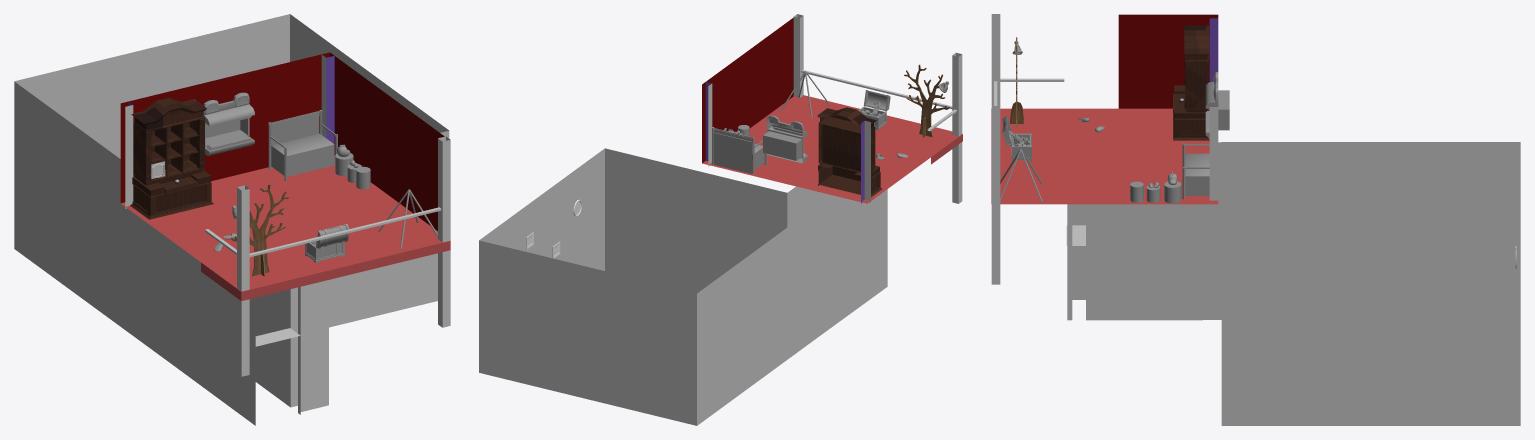
File: inside_2stage.FBX
3 renders of one model, left to right at view 1: azimuth 30°, elevation 25°; view 2: azimuth 150°, elevation 25°; view 3: azimuth 270°, elevation 25°, orthographic. The views are drawn at different scales.
Visible parts, largest first — view 1: jihasil_L_wall_movingX, 2f_floor, Object163, jihasil_F_wall, jihasil_gyedan_L_wall, jihasil_gyedan_R_wall, 2f_jangsickjang, 2f_gidung, 2f_object, jihasil_back_wall_moving, jihasil_R_wall, 2f_otgerE (+2 smaller); view 2: jihasil_F_wall, jihasil_back_wall_moving, jihasil_L_wall_movingX, 2f_floor, jihasil_R_wall, jihasil_gyedan_L_wall, Object163, 2f_gidung, 2f_jangsickjang, 2f_object, 2f_otgerE, jihasil_gyedan_R_wall (+1 smaller); view 3: jihasil_R_wall, jihasil_L_wall_movingX, jihasil_gyedan_R_wall, 2f_floor, Object163, 2f_gidung, 2f_object, 2f_jangsickjang, jihasil_gyedan_L_wall, 2f_hookblock.
Part boxes in pixels (x1,y1,x2,y2): jihasil_L_wall_movingX: (14,81,173,365); 2f_floor: (121,156,450,300); Object163: (120,52,444,230); jihasil_F_wall: (14,14,289,158); jihasil_gyedan_L_wall: (173,242,255,425); jihasil_gyedan_R_wall: (255,280,328,414); 2f_jangsickjang: (130,98,213,219); 2f_gidung: (125,54,450,376); 2f_object: (203,92,437,248); jihasil_back_wall_moving: (329,131,449,327); jihasil_R_wall: (290,14,448,132); 2f_otgerE: (230,184,288,276); jihasil_F_wall: (479,240,696,425); jihasil_back_wall_moving: (605,148,787,293); jihasil_L_wall_movingX: (697,201,822,425); 2f_floor: (702,95,962,203); jihasil_R_wall: (479,148,604,270); jihasil_gyedan_L_wall: (823,189,887,333); Object163: (702,17,793,162); 2f_gidung: (705,14,962,203); 2f_jangsickjang: (817,107,881,197); 2f_object: (712,71,948,174); 2f_otgerE: (904,64,949,137); jihasil_gyedan_R_wall: (787,186,831,226); jihasil_R_wall: (1221,268,1520,425); jihasil_L_wall_movingX: (1221,142,1520,268); jihasil_gyedan_R_wall: (1067,162,1221,320); 2f_floor: (991,108,1218,204); Object163: (1118,14,1218,108); 2f_gidung: (991,14,1218,284); 2f_object: (1000,41,1229,203); 2f_jangsickjang: (1173,25,1209,140); jihasil_gyedan_L_wall: (1072,142,1221,299); 2f_hookblock: (1002,116,1031,160).
Bounding box in the file's own units: 1019 × 818 × 1504.
